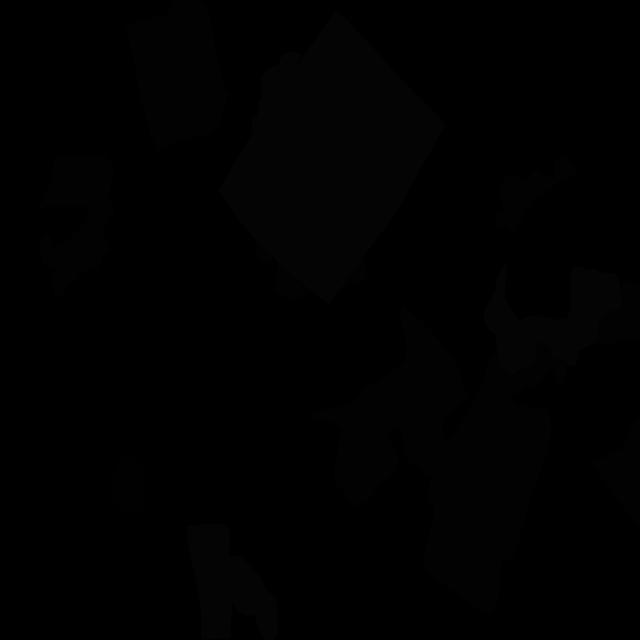cardboard: (310, 306, 470, 507), (422, 379, 552, 614), (125, 0, 229, 150), (36, 155, 114, 300), (496, 156, 578, 234), (590, 419, 640, 530), (484, 342, 568, 397), (597, 281, 640, 344), (274, 263, 312, 300), (344, 258, 368, 287), (254, 240, 274, 264)
rigid_plastic: (112, 455, 146, 516)
soft_plastic: (218, 9, 446, 304), (484, 264, 622, 375), (187, 524, 278, 640), (251, 52, 302, 133)
